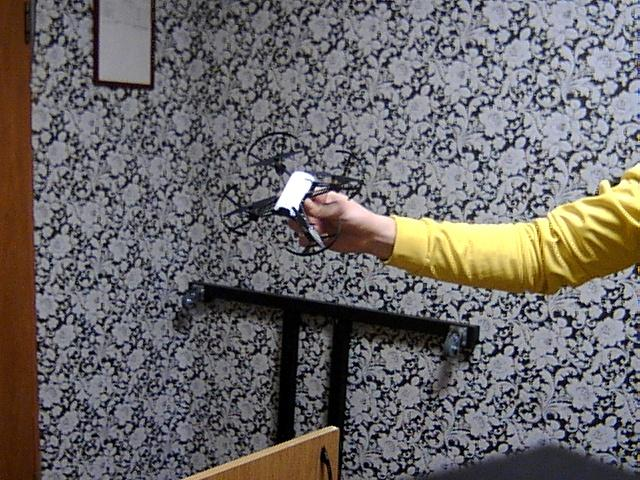drone: (211, 120, 370, 266)
